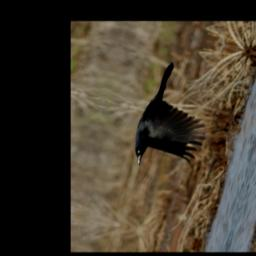Crow: (126, 58, 226, 181)
